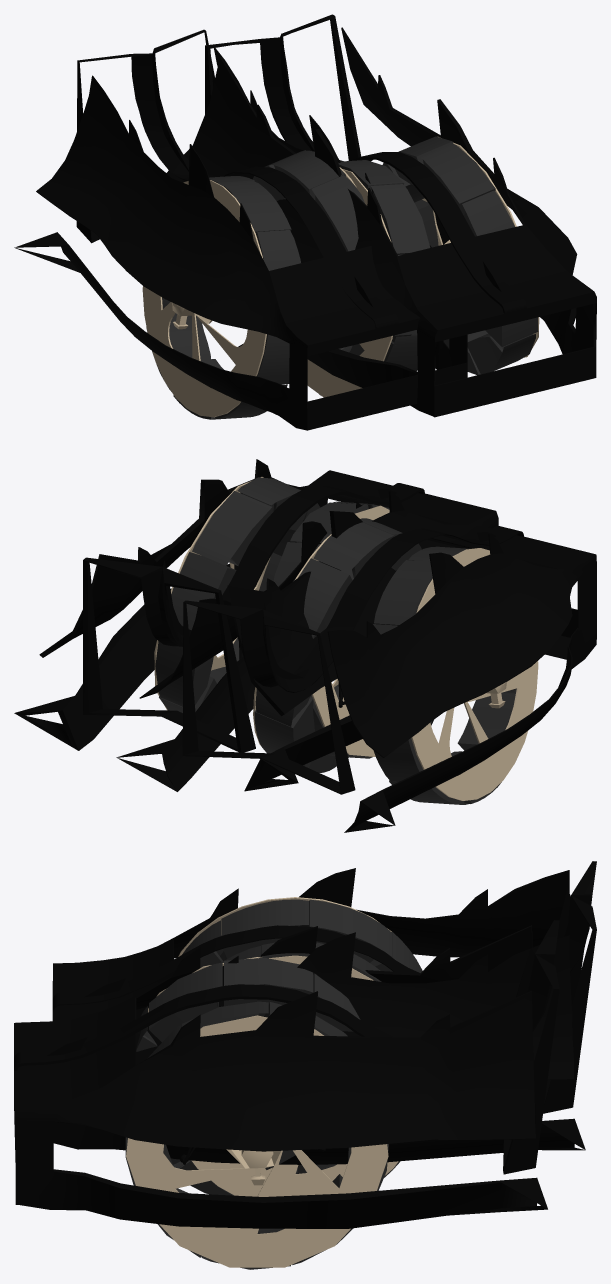
The picture shows the model from 3 angles, top to bottom: view 1: azimuth 30°, elevation 25°; view 2: azimuth 150°, elevation 25°; view 3: azimuth 270°, elevation 25°; orthographic projection. The views are drawn at different scales.
Parts seen in each view (by area): view 1: shell, pasted__low_shell, wheelside_left1, rocket35, rocket30_node, rocket36, rocket46, wheelside_right, rocket1_node, rocket29_node, rocket, rocket47 (+7 smaller); view 2: shell, pasted__low_shell, wheelside_left1, rocket31_node, rocket45, rocket, rocket43, rocket32_node, rocket33_node, rocket41, rocket49, wheelside_right (+8 smaller); view 3: pasted__low_shell, shell, wheelside_right_node, wheelside_left, rocket1, rocket46, rocket45, rocket35, rocket30_node, rocket28, rocket47, rocket44 (+1 smaller).
Boxes of the visible parts, x1,y1,x2,y2 form: shell: (14, 29, 467, 430); pasted__low_shell: (166, 14, 596, 417); wheelside_left1: (142, 180, 266, 417); rocket35: (371, 184, 430, 254); rocket30_node: (419, 142, 495, 215); rocket36: (311, 175, 364, 251); rocket46: (221, 180, 291, 241); wheelside_right: (307, 169, 392, 397); rocket1_node: (467, 333, 535, 374); rocket29_node: (462, 190, 514, 236); rocket: (271, 150, 345, 200); rocket47: (257, 230, 300, 270); shell: (116, 502, 596, 832); pasted__low_shell: (14, 459, 498, 791); wheelside_left1: (411, 548, 538, 800); rocket31_node: (192, 491, 272, 565); rocket45: (374, 560, 432, 624); rocket: (313, 522, 394, 580); rocket43: (298, 558, 352, 638); rocket32_node: (171, 552, 236, 630); rocket33_node: (155, 641, 213, 706); rocket41: (254, 697, 314, 765); rocket49: (457, 691, 515, 750); wheelside_right: (312, 505, 389, 756); pasted__low_shell: (14, 920, 559, 1228); shell: (52, 861, 596, 1164); wheelside_right_node: (126, 1015, 388, 1267); wheelside_left: (191, 955, 398, 1196); rocket1: (224, 957, 313, 1016); rocket46: (221, 899, 308, 958); rocket45: (300, 899, 391, 962); rocket35: (149, 962, 222, 1041); rocket30_node: (182, 1001, 268, 1028); rocket28: (303, 973, 360, 1031); rocket47: (182, 920, 226, 967); rocket44: (370, 931, 422, 972).
Size of the model in its own units: 31.08 by 20.09 by 37.26.
